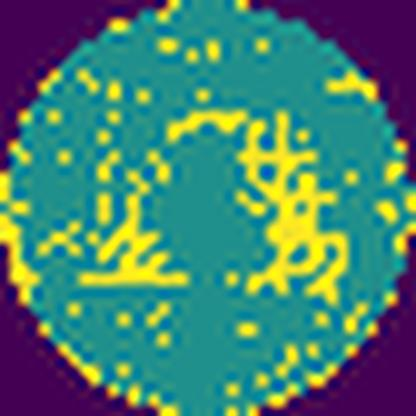Donut: (66, 95, 353, 308)
